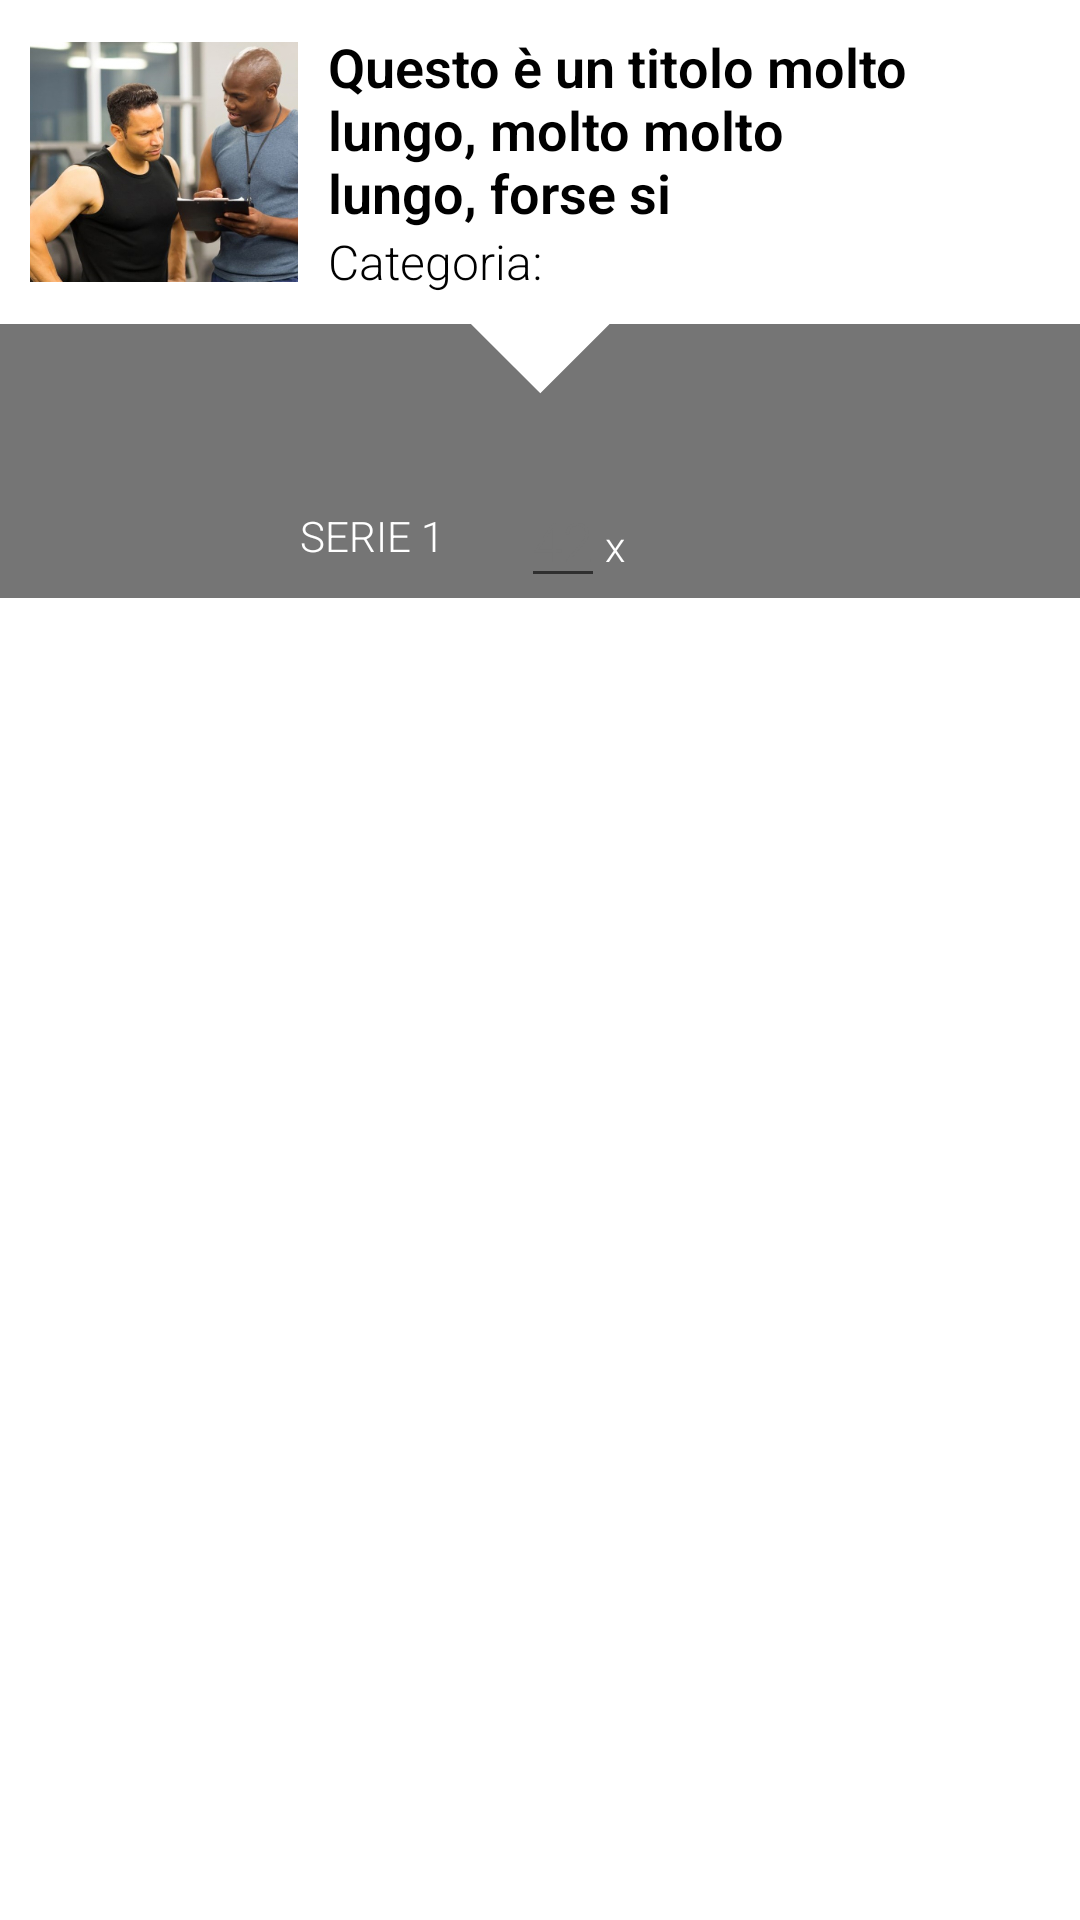

Icon bounding boxes for this 1080×1920 phone screenshot, format (x1, y1, x2, y2):
home trainer schedule: (30, 42, 298, 282)
